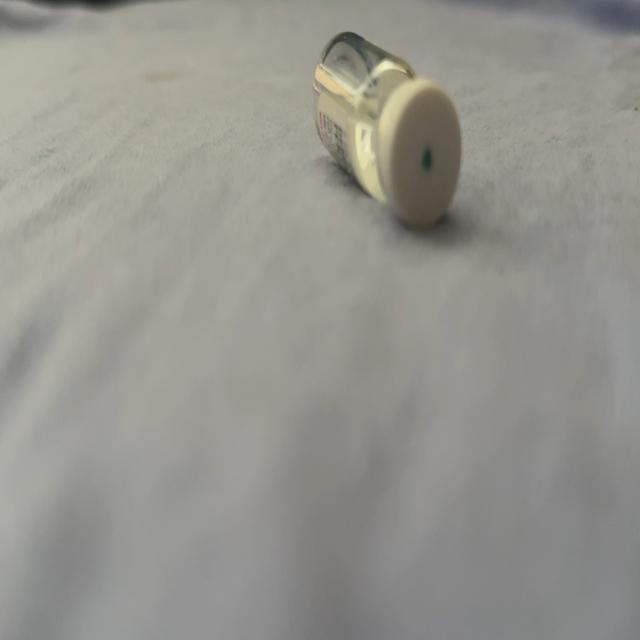fentanl_citrat: (315, 35, 460, 226)
